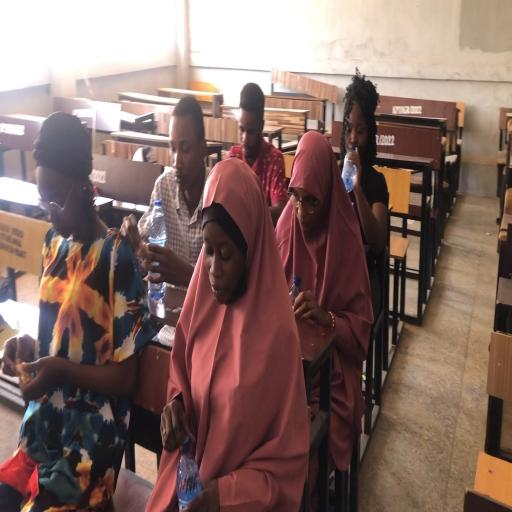Eating: (0, 117, 198, 499), (0, 102, 155, 492), (275, 129, 373, 507), (340, 74, 391, 442), (135, 95, 209, 312), (339, 76, 391, 329)
